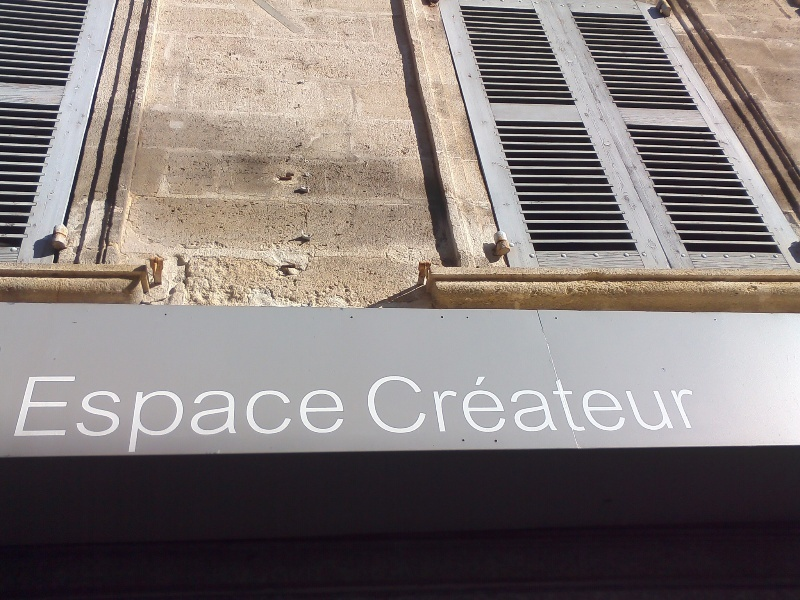text: (33, 374, 48, 456), (49, 374, 64, 456), (65, 374, 80, 456), (81, 374, 96, 456), (97, 374, 112, 456), (113, 374, 128, 456), (129, 374, 144, 456), (145, 374, 160, 456), (161, 374, 176, 456), (177, 374, 192, 456), (193, 374, 208, 456), (209, 374, 224, 456), (225, 374, 240, 456), (241, 374, 256, 456), (257, 374, 272, 456), (273, 374, 288, 456), (289, 374, 304, 456), (305, 374, 320, 456), (321, 374, 336, 456), (369, 370, 384, 438), (385, 370, 400, 438), (401, 370, 416, 438), (417, 370, 432, 438), (433, 370, 448, 438), (449, 370, 464, 438), (465, 370, 480, 438), (481, 370, 496, 438), (497, 370, 512, 438), (513, 370, 528, 438), (529, 370, 544, 438), (545, 370, 560, 438), (561, 370, 576, 438), (577, 370, 592, 438), (593, 370, 608, 438), (609, 370, 624, 438), (625, 370, 640, 438), (641, 370, 656, 438), (657, 370, 672, 438), (673, 370, 688, 438), (689, 370, 702, 438), (337, 374, 344, 456), (26, 374, 32, 456), (362, 370, 368, 438)
